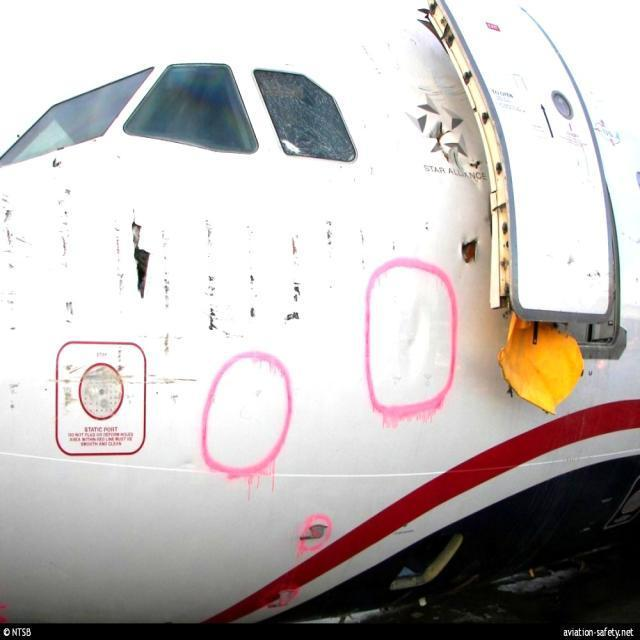crack: (125, 206, 153, 303), (456, 231, 482, 270)
dent: (397, 293, 432, 376)
